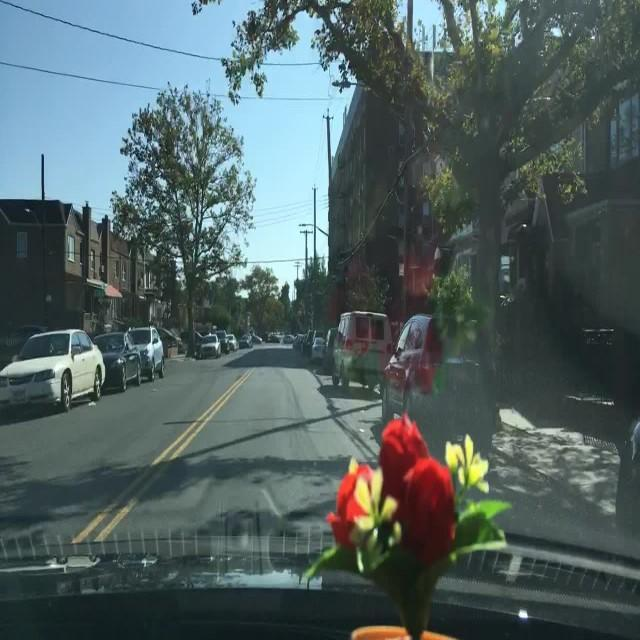normal: (3, 307, 176, 434)
